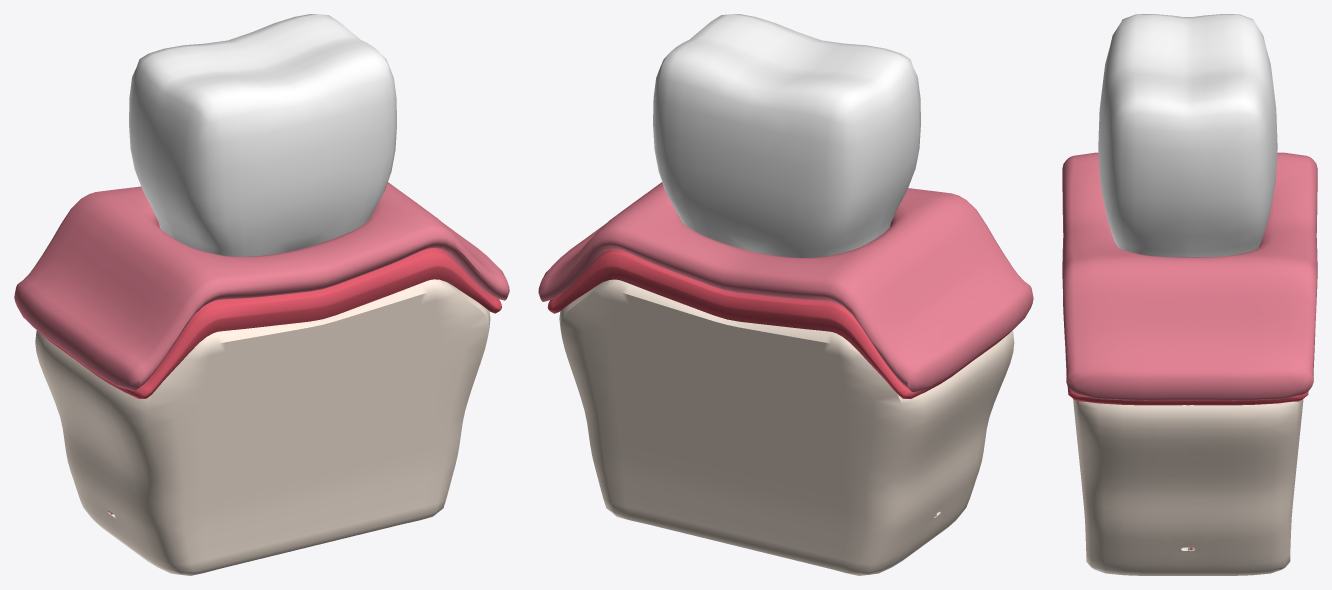
Rendered from tooth-final.glb.
3 renders of one model, left to right at view 1: azimuth 30°, elevation 25°; view 2: azimuth 150°, elevation 25°; view 3: azimuth 270°, elevation 25°, orthographic.
Visible parts, largest first — view 1: bone_front, enamel_front, gum_top_front, gum_top_back, gum_bottom_front, enamel_back, bone_back; view 2: bone_back, enamel_back, gum_top_back, gum_top_front, enamel_front, gum_bottom_back, bone_front; view 3: gum_top_back, gum_top_front, enamel_back, enamel_front, bone_front, bone_back, gum_bottom_front, gum_bottom_back.
Part boxes in pixels (x1,y1,x2,y2): bone_front: [76, 279, 490, 575]; enamel_front: [152, 37, 396, 256]; gum_top_front: [64, 183, 509, 390]; gum_top_back: [14, 182, 452, 351]; gum_bottom_front: [72, 248, 501, 398]; enamel_back: [129, 14, 359, 238]; bone_back: [35, 330, 123, 543]; bone_back: [559, 279, 973, 575]; enamel_back: [653, 37, 897, 257]; gum_top_back: [538, 183, 983, 392]; gum_top_front: [595, 182, 1033, 352]; enamel_front: [692, 14, 920, 238]; gum_bottom_back: [547, 249, 977, 398]; bone_front: [925, 330, 1014, 543]; gum_top_back: [1190, 152, 1317, 400]; gum_top_front: [1062, 152, 1189, 400]; enamel_back: [1188, 14, 1277, 257]; enamel_front: [1098, 14, 1187, 257]; bone_front: [1073, 399, 1188, 575]; bone_back: [1188, 399, 1303, 575]; gum_bottom_front: [1063, 297, 1188, 405]; gum_bottom_back: [1188, 391, 1308, 405].
Bounding box in the file's own units: 6.29 × 6.99 × 3.54.
